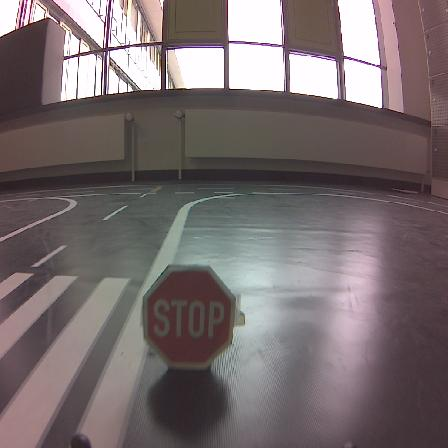STOP: (143, 266, 235, 368)
